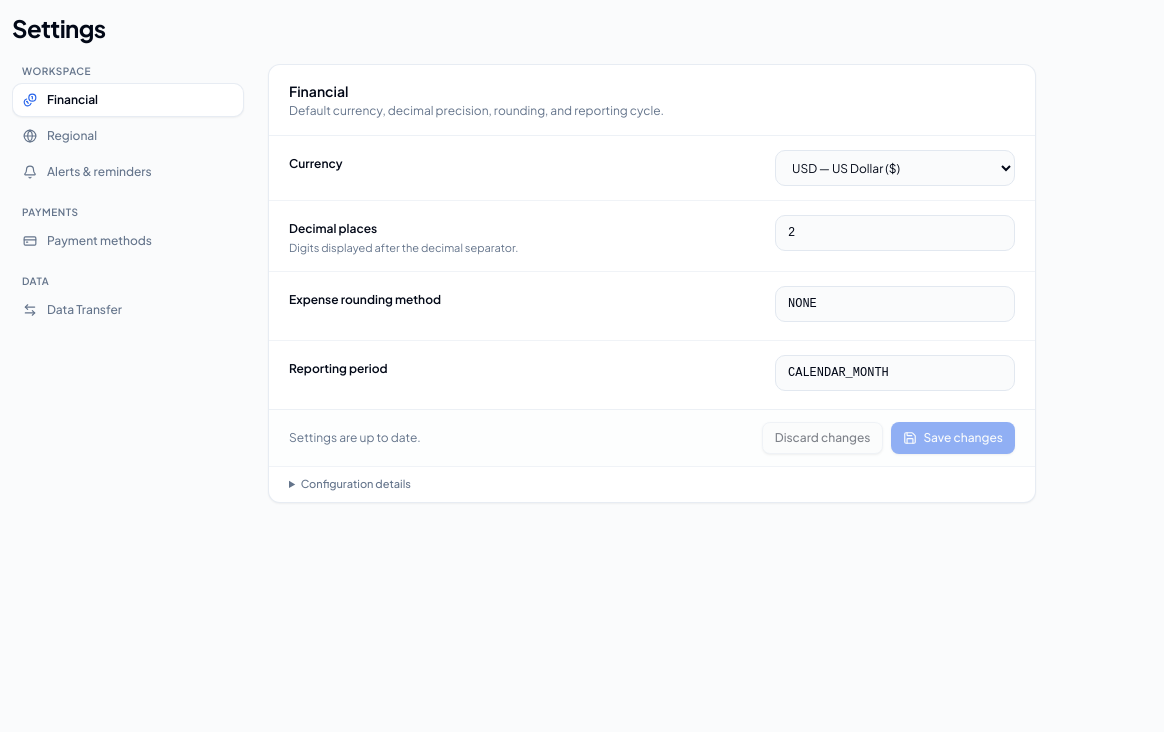
Scenario: Settings -> Data Transfer UI › navigates to Data Transfer from the Settings rail and displays safety guidance
The width and height of the screenshot is (1164, 732).
What coordinates should you click on to do the following:
click the button "Data Transfer"
I would click on:
 (128, 310)
Its box is [12, 293, 244, 327].
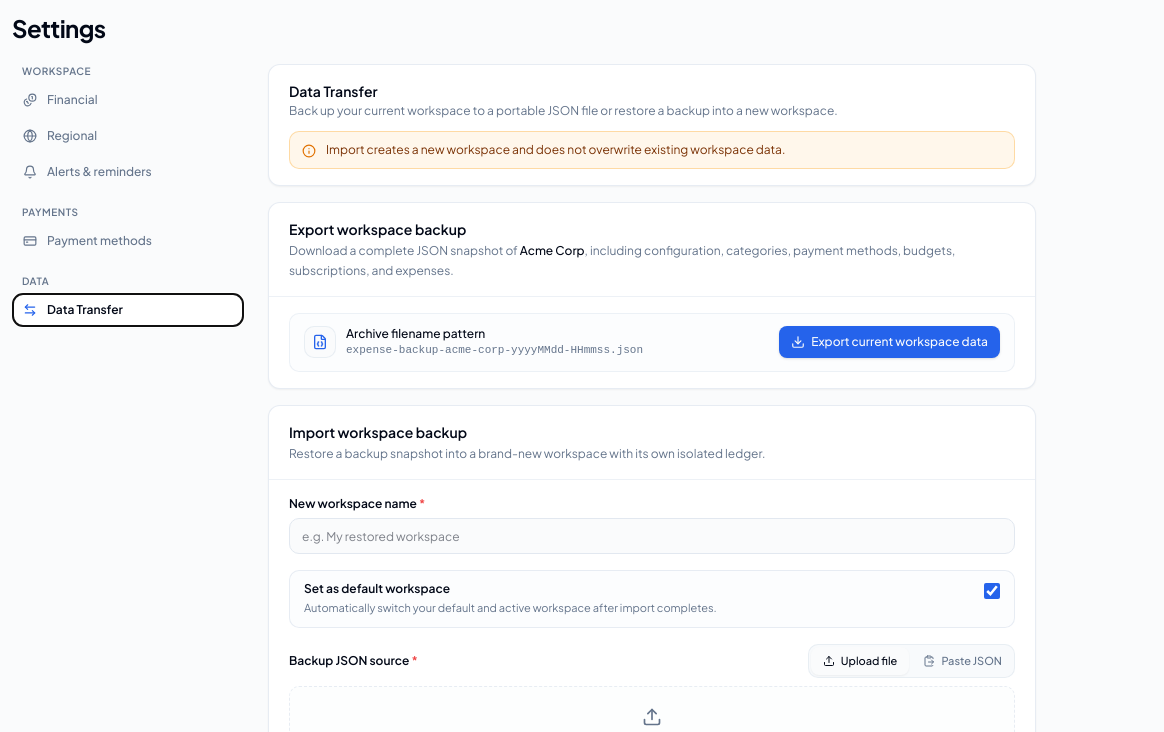
Result: the heading "Data Transfer" is shown at [289, 82, 378, 100]
Result: the text "Import creates a new workspace and does not overwrite existing workspace data." is shown at [326, 142, 785, 158]
